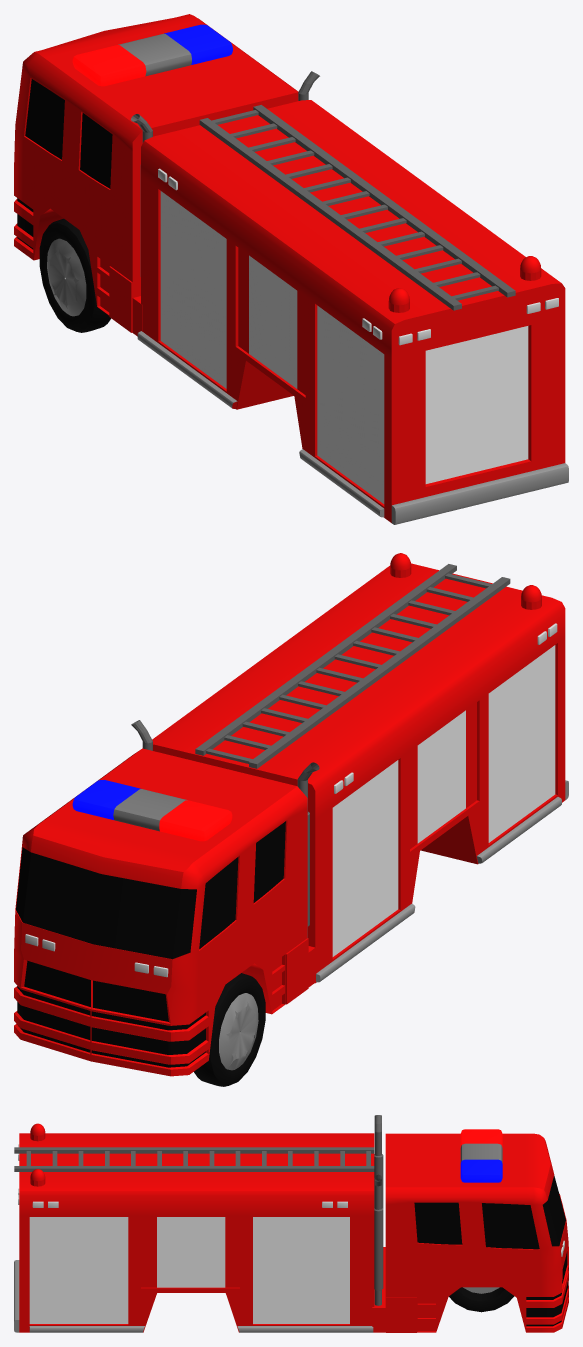
The model's file is FireEngine_M_V1_Raghu.fbx.
3 renders of one model, top to bottom at view 1: azimuth 30°, elevation 25°; view 2: azimuth 150°, elevation 25°; view 3: azimuth 270°, elevation 25°, orthographic. The views are drawn at different scales.
Parts seen in each view (by area): view 1: Box009, Fire Engine, Box011, Box012, Tube006; view 2: Box009, Fire Engine, Box011, Box012, Tube006; view 3: Box009, Fire Engine, Box011, Box012, Tube006.
Boxes of the visible parts, x1,y1,x2,y2 form: Box009: (137, 100, 568, 524); Fire Engine: (14, 14, 298, 336); Box011: (131, 71, 515, 310); Box012: (72, 24, 232, 86); Tube006: (39, 218, 110, 332); Box009: (152, 563, 568, 983); Fire Engine: (14, 748, 316, 1076); Box011: (131, 564, 510, 937); Box012: (72, 779, 232, 841); Tube006: (194, 973, 265, 1086); Box009: (14, 1133, 374, 1332); Fire Engine: (372, 1133, 568, 1332); Box011: (14, 1115, 383, 1305); Box012: (460, 1129, 502, 1182); Tube006: (449, 1287, 514, 1312).
Size of the model in its own units: 565 by 775 by 2042.
